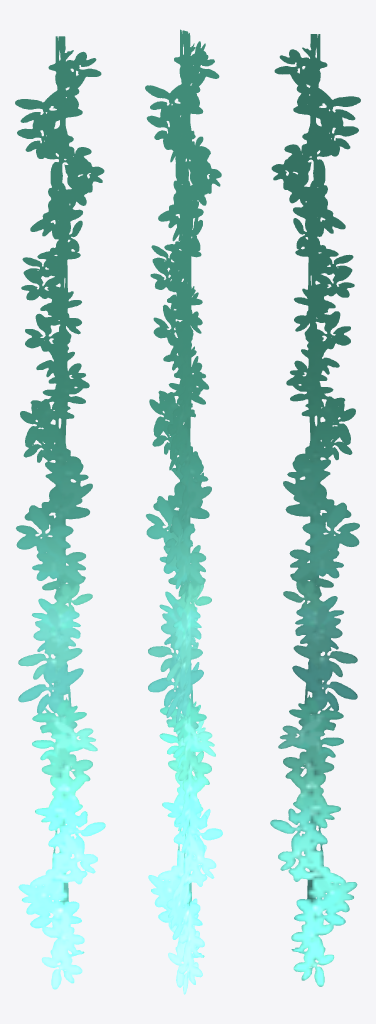
File: SM_ENV_plant_ancient_15_01.fbx
3 renders of one model, left to right at view 1: azimuth 90°, elevation 25°; view 2: azimuth 150°, elevation 25°; view 3: azimuth 270°, elevation 25°, orthographic.
Visible parts, largest first — view 1: SM_ENV_plant_ancient_15_01_LOD0; view 2: SM_ENV_plant_ancient_15_01_LOD0; view 3: SM_ENV_plant_ancient_15_01_LOD0.
Boxes of the visible parts, box(x1,y1,x2,y2) form: SM_ENV_plant_ancient_15_01_LOD0: box(15, 36, 105, 989); SM_ENV_plant_ancient_15_01_LOD0: box(145, 29, 222, 994); SM_ENV_plant_ancient_15_01_LOD0: box(270, 34, 360, 986).
Size of the model in its own units: 38.97 by 409 by 39.5.
